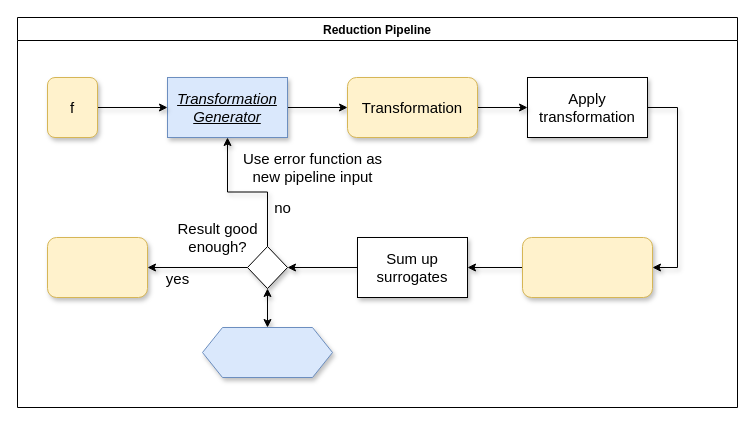
Some shapes in this 755 by 425 pixel diagram are drawn without their labels. Here are the shapes that lost their labels. From the top down, the centre of each, then its label:
At point (98, 268): "Reduction result".
At point (588, 268): "Reduced Surrogate".
At point (268, 353): "Quality criterions".
